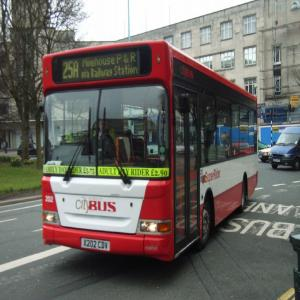Vehicle-registration-plate: (81, 238, 109, 251), (274, 159, 281, 164), (259, 155, 265, 159)
